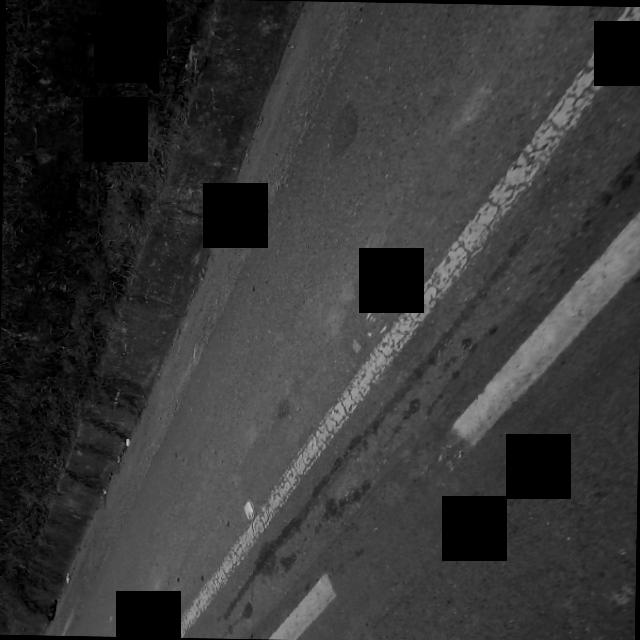DITCH: (5, 0, 640, 640), (29, 0, 640, 640)
